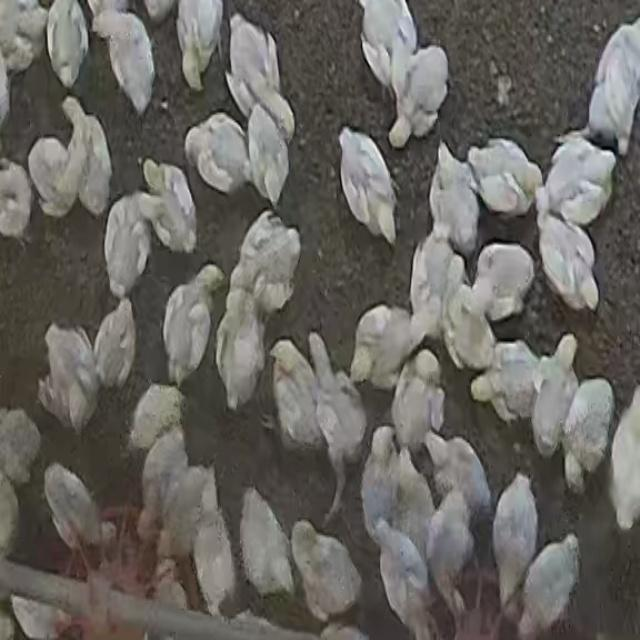chicken: (303, 332, 367, 516), (230, 12, 298, 143), (161, 264, 225, 392), (333, 121, 397, 243), (371, 520, 436, 640), (188, 474, 240, 621), (90, 6, 157, 119), (407, 232, 465, 362), (238, 486, 296, 613), (586, 19, 640, 154), (290, 518, 360, 622), (426, 484, 476, 627), (425, 429, 491, 537), (539, 136, 617, 227), (138, 425, 196, 547), (491, 473, 538, 622), (470, 339, 546, 430), (234, 212, 300, 316), (438, 257, 496, 373), (39, 321, 97, 435), (268, 339, 324, 456), (356, 1, 418, 106), (426, 140, 481, 258), (516, 534, 579, 636), (537, 213, 599, 314), (134, 161, 197, 259), (466, 138, 543, 218), (390, 350, 444, 459), (351, 304, 418, 391), (392, 442, 438, 566), (393, 44, 449, 145), (42, 462, 102, 556), (64, 92, 110, 214), (186, 109, 252, 194), (472, 242, 536, 325), (530, 346, 576, 461), (563, 377, 613, 481), (221, 299, 266, 413), (240, 102, 290, 204), (104, 198, 153, 300), (608, 381, 640, 530), (360, 426, 398, 546), (94, 299, 137, 392), (30, 132, 77, 216), (179, 0, 221, 89), (48, 1, 90, 90), (130, 382, 184, 451), (0, 2, 46, 72), (0, 408, 39, 483), (1, 158, 34, 239)
